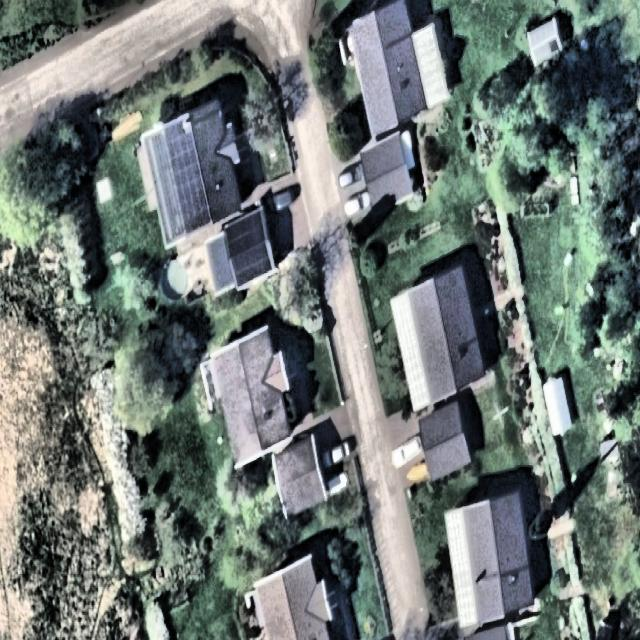roof_pv: (177, 175, 210, 236), (167, 119, 201, 178), (232, 244, 274, 285), (225, 212, 267, 248)
